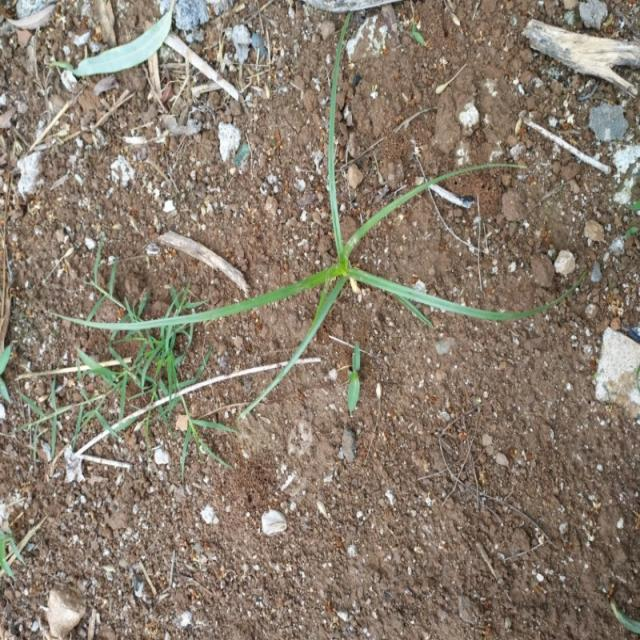sedge: (122, 80, 504, 367)
